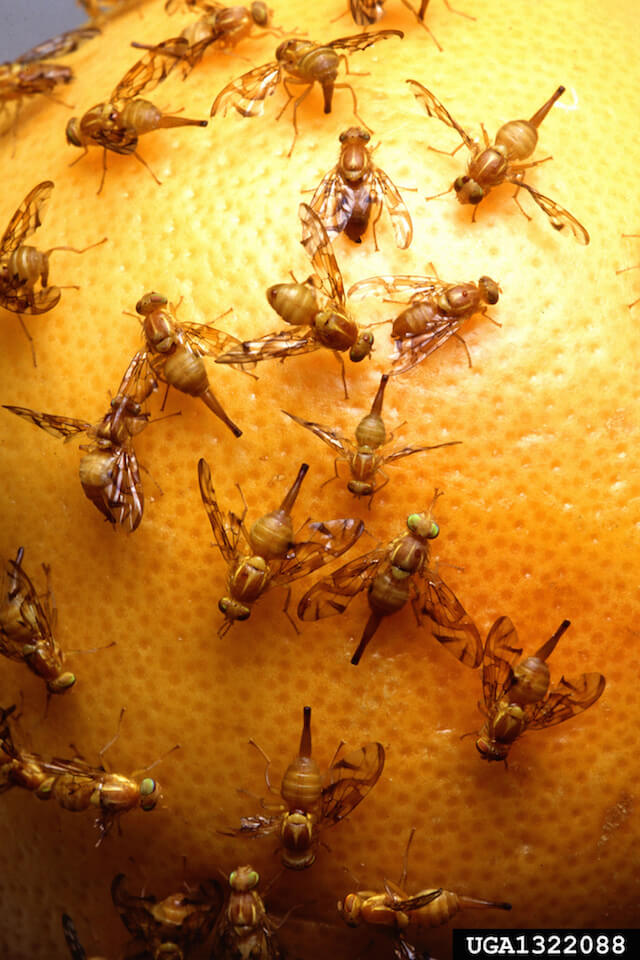Fruit fly: (464, 575, 625, 786), (215, 212, 375, 400), (190, 456, 353, 615), (448, 84, 631, 215), (127, 299, 256, 471), (248, 706, 374, 880), (14, 728, 199, 846), (393, 236, 521, 396), (346, 503, 446, 658)
